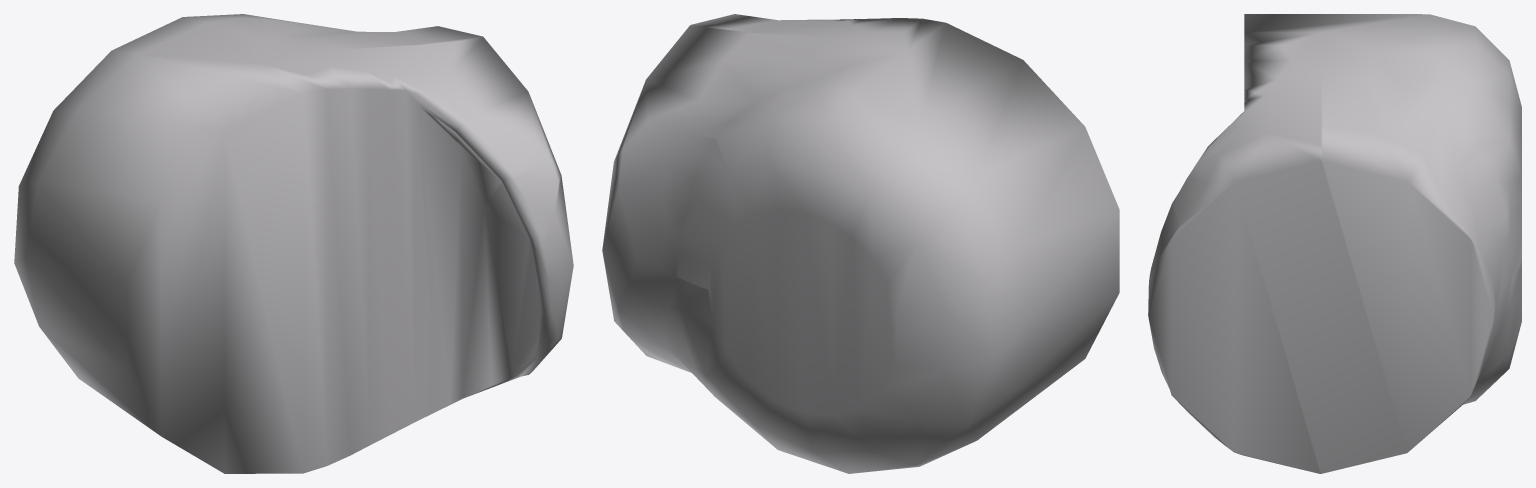
File: Right_Shoulder_Lower.dae
3 views of the same model, side by side, from view 1: azimuth 30°, elevation 25°; view 2: azimuth 150°, elevation 25°; view 3: azimuth 270°, elevation 25° (orthographic). The views are drawn at different scales.
Parts seen in each view (by area): view 1: Mesh; view 2: Mesh; view 3: Mesh.
Part boxes in pixels (<box>): Mesh: <box>14,14,573,473</box>; Mesh: <box>602,14,1119,473</box>; Mesh: <box>1148,14,1521,473</box>.
Size of the model in its own units: 0.1829 by 0.1651 by 0.1538.
Materials: 1 (1 with a texture image).
